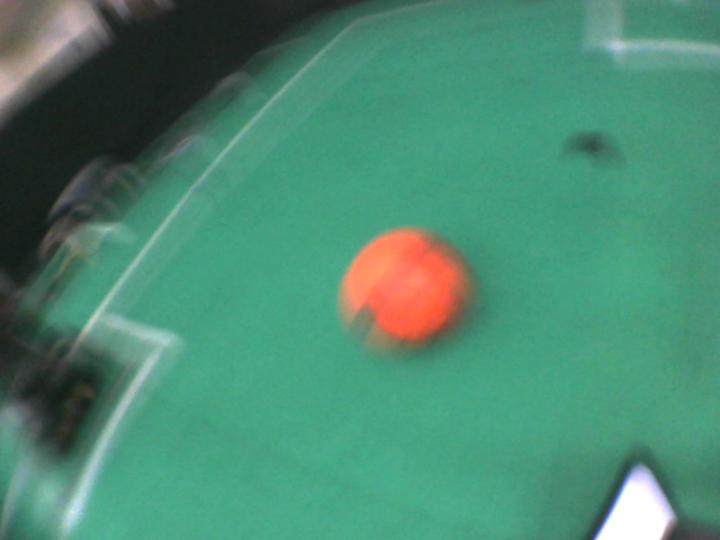bola: (335, 222, 476, 357)
